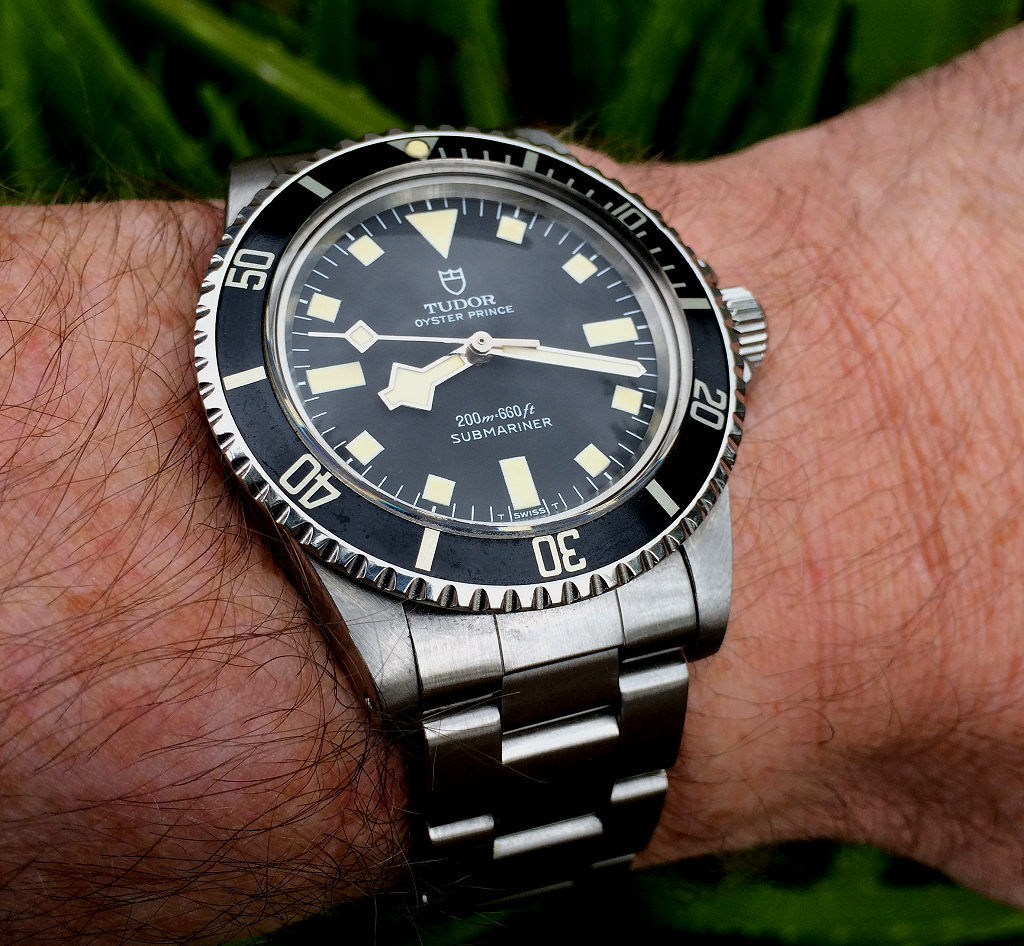clock: (276, 196, 661, 525)
